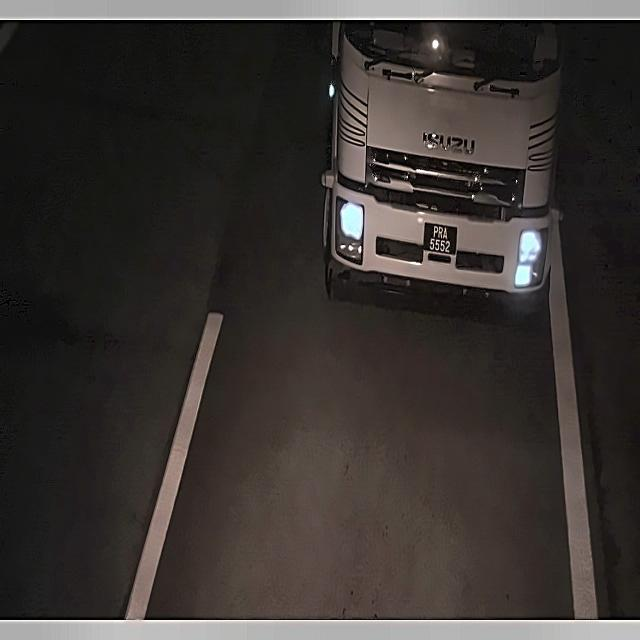car: (423, 219, 458, 264)
